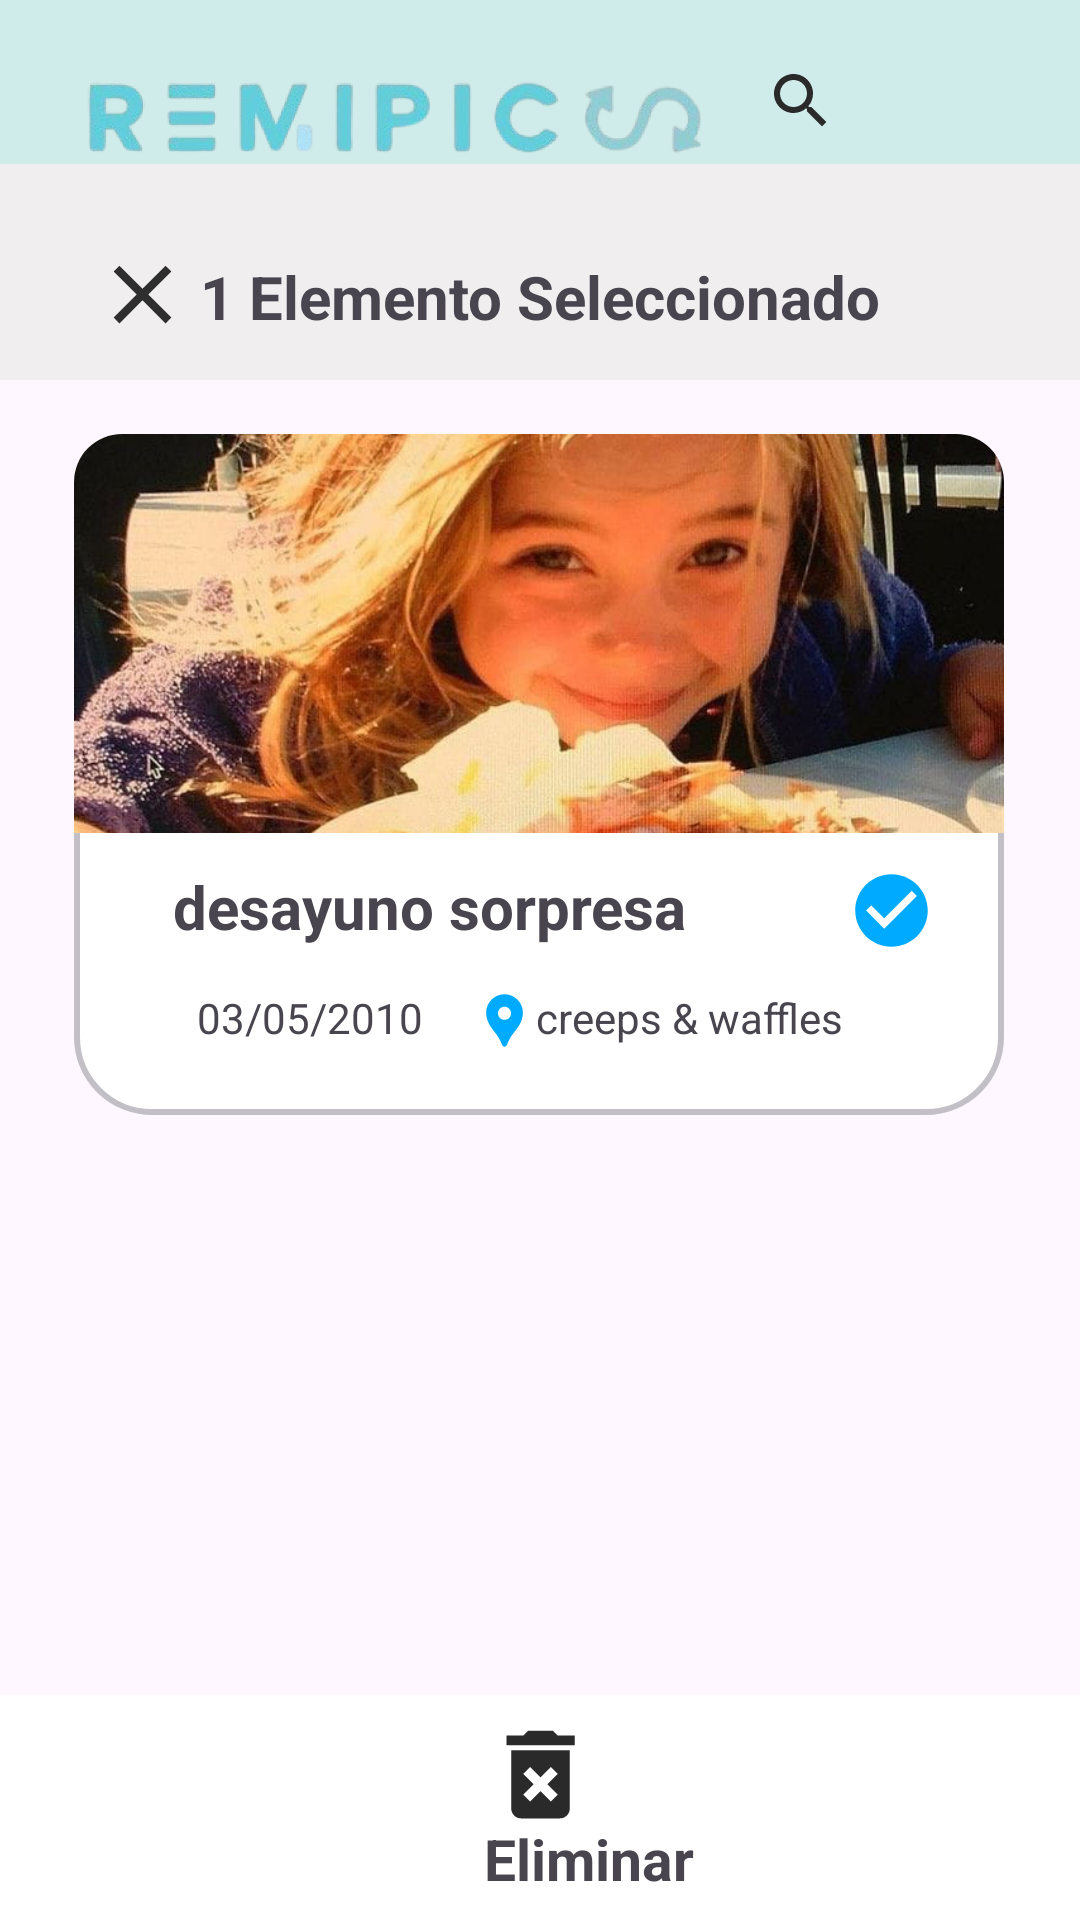

Icon bounding boxes for this 1080w x 1920h phone screenshot, format detection(x1, y1, x2, y2):
cerrar selec: detection(113, 266, 171, 324)
check selec: detection(855, 874, 928, 947)
lupa: detection(774, 74, 826, 126)
ubi: detection(486, 994, 523, 1047)
